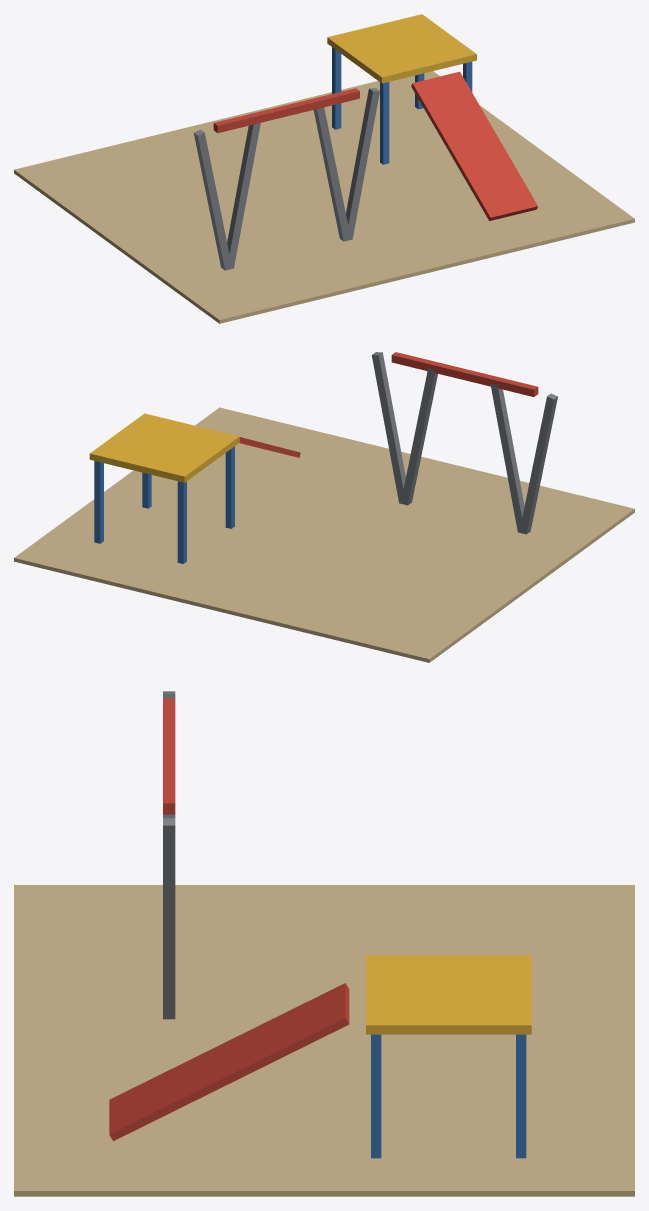
File: playground.glb
The picture shows the model from 3 angles, top to bottom: view 1: azimuth 30°, elevation 25°; view 2: azimuth 150°, elevation 25°; view 3: azimuth 270°, elevation 25°; orthographic projection. The views are drawn at different scales.
Visible parts, largest first — view 1: playground; view 2: playground; view 3: playground.
Boxes of the visible parts, x1,y1,x2,y2 form: playground: (14,14,634,323); playground: (14,352,634,662); playground: (14,691,634,1196).
Size of the model in its own units: 7 by 2.43 by 6.
